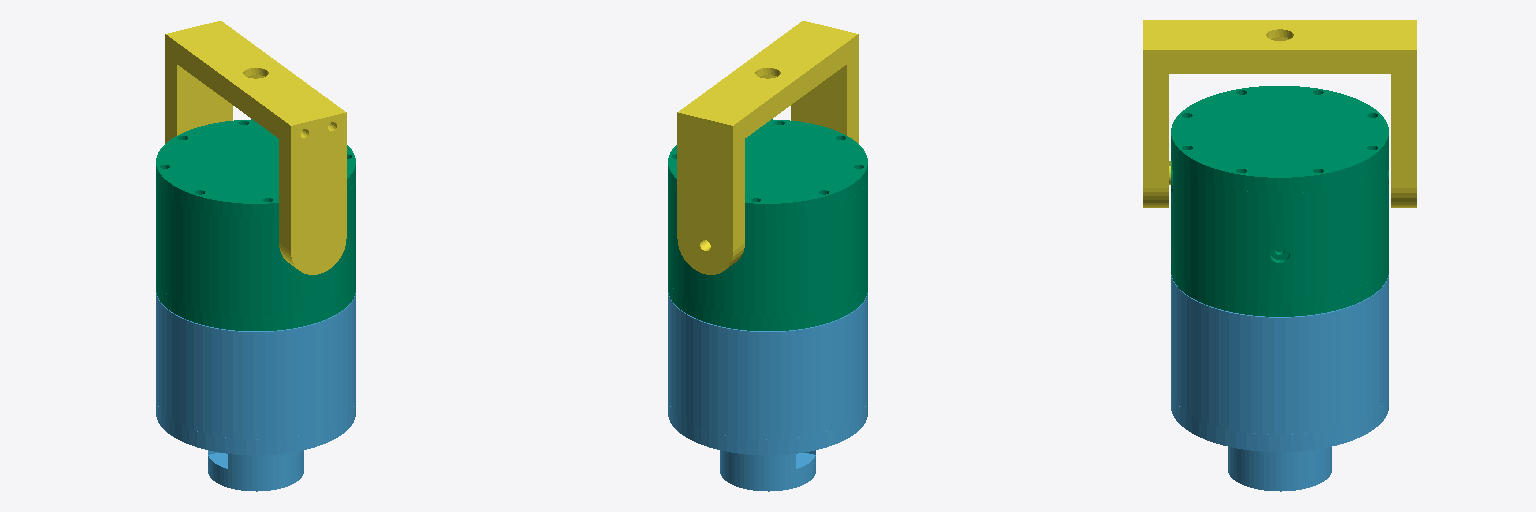
robot.urdf — xm540_manipulator:
<?xml version="1.0"?>
<robot name="xm540_manipulator">

  <!-- Wirtualna baza (wymagana przez robot_state_publisher) -->
  <link name="base_link"/>

  <!-- Człon 0 – baza, nieruchomy -->
  <link name="link_0">
    <visual>
      <origin xyz="0 0 0" rpy="3.14159 0 0"/>
      <geometry>
        <mesh filename="package://xm540_bringup/meshes/link_0.stl" scale="0.001 0.001 0.001"/>
      </geometry>
    </visual>
    <collision>
      <origin xyz="0 0 0" rpy="3.14159 0 0"/>
      <geometry>
        <mesh filename="package://xm540_bringup/meshes/link_0.stl" scale="0.001 0.001 0.001"/>
      </geometry>
    </collision>
  </link>

  <joint name="base_to_link0" type="fixed">
    <parent link="base_link"/>
    <child link="link_0"/>
    <origin xyz="0 0 0" rpy="0 0 0"/>
  </joint>

  <!-- Człon 1 – nieruchomy, przesunięty względem link_0 -->
  <link name="link_1">
    <visual>
      <geometry>
        <mesh filename="package://xm540_bringup/meshes/link_1.stl" scale="0.001 0.001 0.001"/>
      </geometry>
    </visual>
    <collision>
      <geometry>
        <mesh filename="package://xm540_bringup/meshes/link_1.stl" scale="0.001 0.001 0.001"/>
      </geometry>
    </collision>
  </link>

  <joint name="xm540_joint_z" type="revolute">
    <parent link="link_0"/>
    <child link="link_1"/>
    <origin xyz="0 0 0.1255" rpy="0 0 0"/>
    <axis xyz="0 0 1"/>
    <limit lower="-1.5708" upper="1.5708" effort="10.6" velocity="2.69"/>
  </joint>

  <!-- Człon 2 – obracany przez serwo XM540 wokół osi Y -->
  <link name="link_2">
    <visual>
      <geometry>
        <mesh filename="package://xm540_bringup/meshes/link_2.stl" scale="0.001 0.001 0.001"/>
      </geometry>
    </visual>
    <collision>
      <geometry>
        <mesh filename="package://xm540_bringup/meshes/link_2.stl" scale="0.001 0.001 0.001"/>
      </geometry>
    </collision>
  </link>

  <joint name="xm540_joint" type="revolute">
    <parent link="link_1"/>
    <child link="link_2"/>
    <origin xyz="0 0.0635 0.062" rpy="0 1.5708 0"/>
    <axis xyz="0 1 0"/>
    <limit lower="-1.5708" upper="1.5708" effort="10.6" velocity="2.69"/>
  </joint>

</robot>

--- Facts derived from the render (not from the file) ---
Views: 3 orthographic renders of the robot side by side, from view 1: azimuth 30°, elevation 25°; view 2: azimuth 150°, elevation 25°; view 3: azimuth 270°, elevation 25°.
Model xm540_manipulator with 4 links and 3 joints (2 revolute, 1 fixed), rooted at base_link, posed every joint at zero.
Visible links, largest first — view 1: link_1, link_0, link_2; view 2: link_1, link_0, link_2; view 3: link_1, link_0, link_2.
Link boxes in pixels (x1,y1,x2,y2): link_1: (156, 119, 355, 330); link_0: (156, 293, 355, 491); link_2: (165, 21, 346, 274); link_1: (668, 119, 867, 330); link_0: (668, 293, 867, 491); link_2: (677, 21, 858, 274); link_1: (1171, 86, 1388, 316); link_0: (1171, 275, 1388, 491); link_2: (1143, 20, 1416, 207).
Size in the robot's own frame: 0.125 by 0.157 by 0.2745 metres.
Meshes: 3 distinct files referenced, 3 mesh visuals loaded (3 binary STL).
